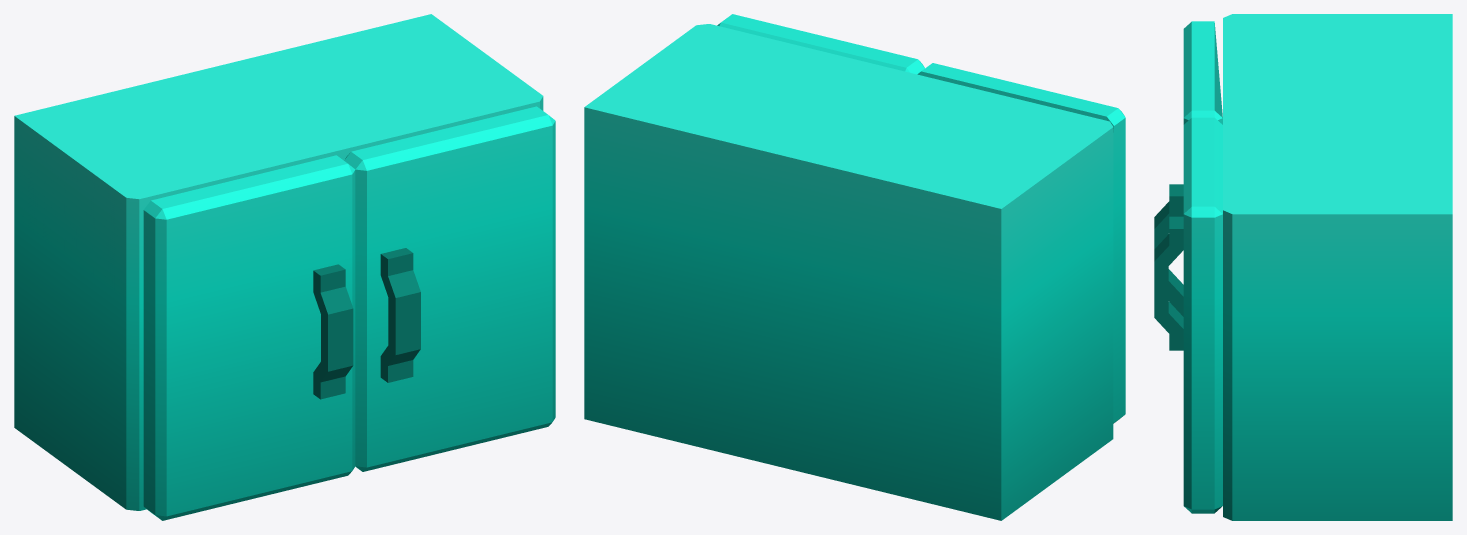
The model's file is Cabinet_01_L_C05.fbx.
3 views of the same model, side by side, from view 1: azimuth 30°, elevation 25°; view 2: azimuth 150°, elevation 25°; view 3: azimuth 270°, elevation 25° (orthographic).
Visible parts, largest first — view 1: Cabinet_01_L_C05, Cabinet_01_L_C05_Door_R, Cabinet_01_L_C05_Door_L; view 2: Cabinet_01_L_C05, Cabinet_01_L_C05_Door_R, Cabinet_01_L_C05_Door_L; view 3: Cabinet_01_L_C05, Cabinet_01_L_C05_Door_L, Cabinet_01_L_C05_Door_R.
Boxes of the visible parts, x1=… form: Cabinet_01_L_C05: x1=14, y1=14, x2=543, y2=510; Cabinet_01_L_C05_Door_R: x1=143, y1=155, x2=355, y2=520; Cabinet_01_L_C05_Door_L: x1=344, y1=106, x2=555, y2=471; Cabinet_01_L_C05: x1=584, y1=24, x2=1113, y2=520; Cabinet_01_L_C05_Door_R: x1=917, y1=63, x2=1125, y2=423; Cabinet_01_L_C05_Door_L: x1=717, y1=14, x2=924, y2=74; Cabinet_01_L_C05: x1=1223, y1=14, x2=1452, y2=520; Cabinet_01_L_C05_Door_L: x1=1154, y1=117, x2=1222, y2=513; Cabinet_01_L_C05_Door_R: x1=1154, y1=21, x2=1222, y2=316.
Size of the model in its own units: 100 by 71.44 by 62.96.
